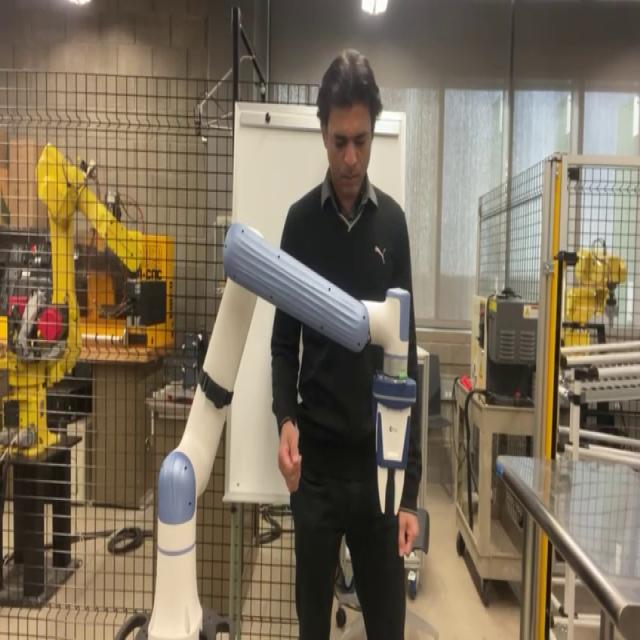robot: (115, 220, 419, 637)
